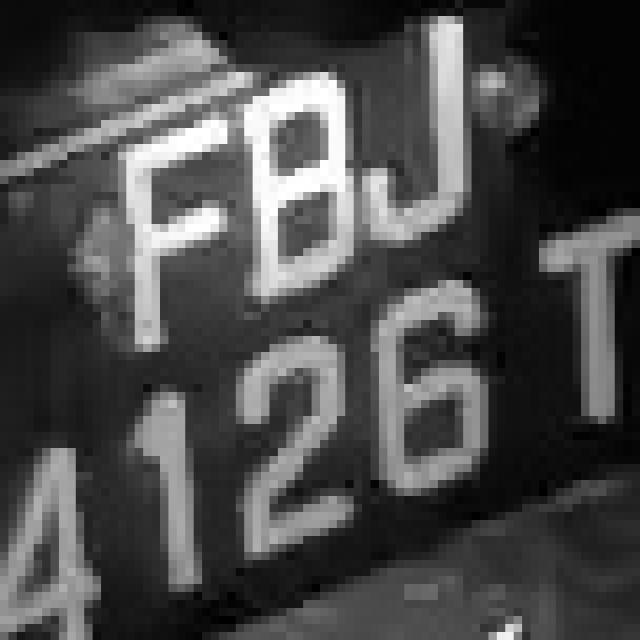1: (101, 328, 211, 600)
2: (210, 320, 370, 552)
4: (8, 408, 126, 632)
6: (354, 272, 505, 520)
B: (210, 56, 370, 288)
F: (110, 104, 244, 328)
J: (345, 8, 480, 240)
T: (522, 208, 640, 432)
